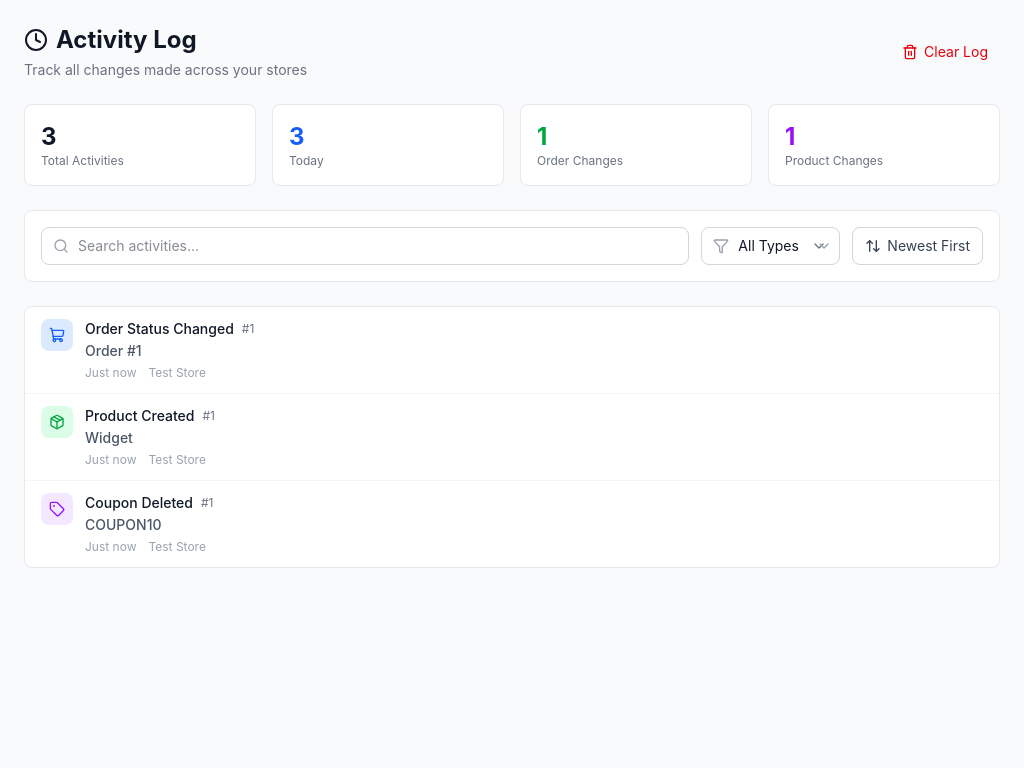
Test: ActivityLogPage › filtering › filters by search term
Type "Widget" into the field with placeholder "Search activities..." at (365,246), box [41,227,689,265]
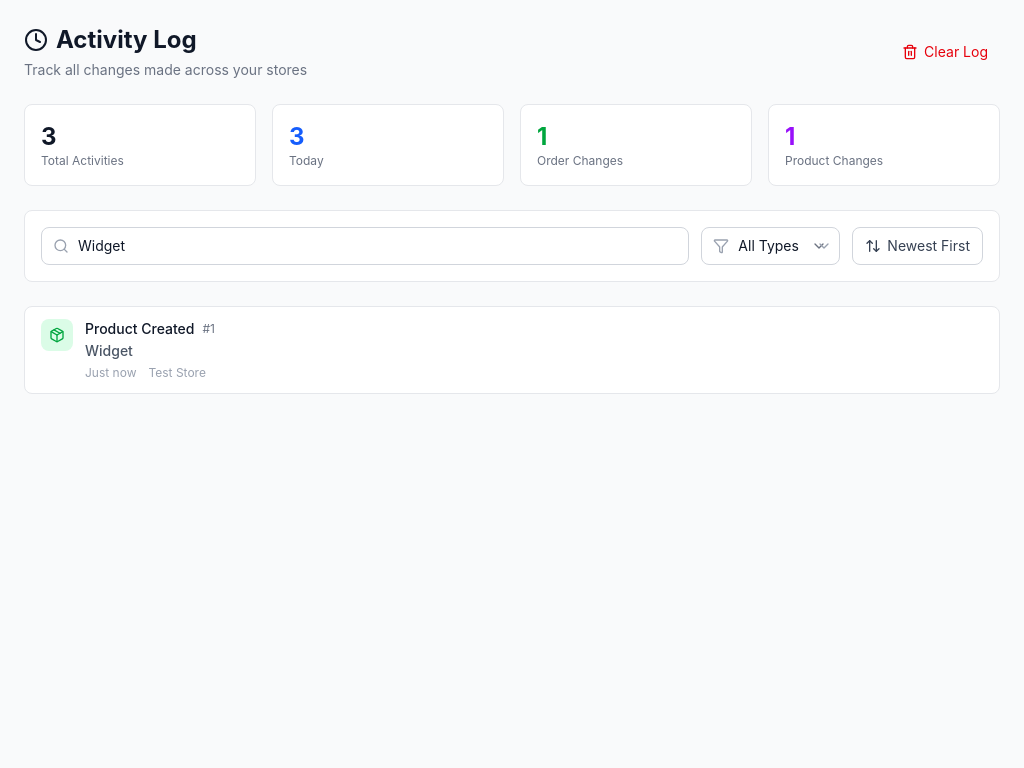
Expected: the text "Widget" is shown, [85,342,133,359]
Expected: the button "Order #1" is gone
Expected: the button "COUPON10" is gone
